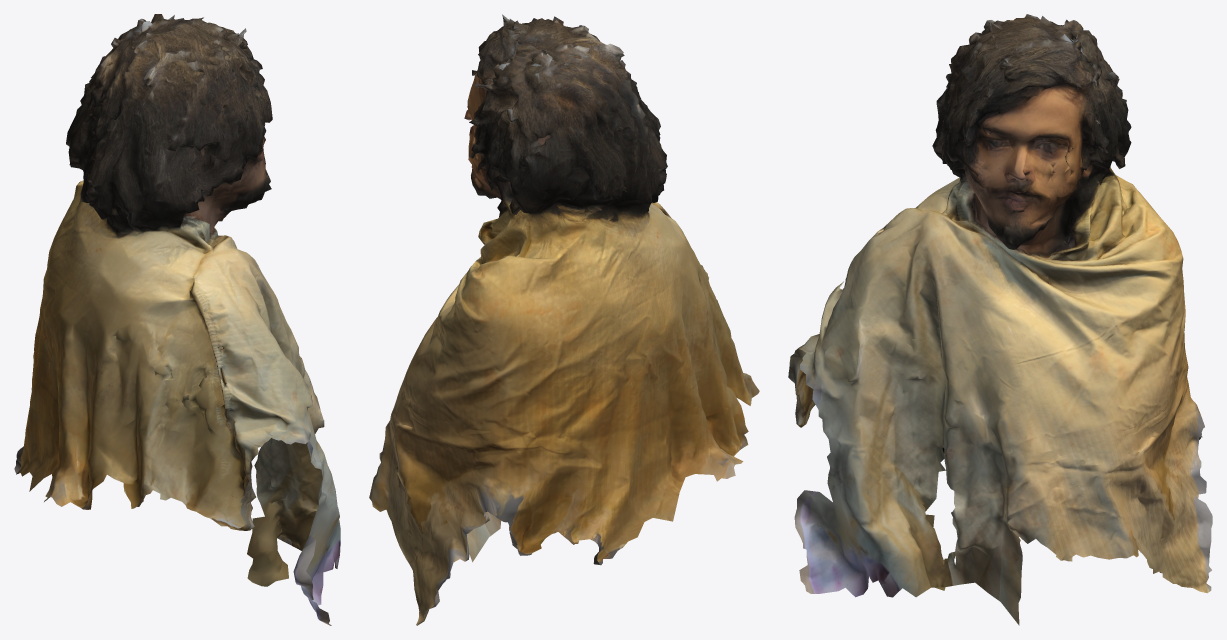
3 views of the same model, side by side, from view 1: azimuth 30°, elevation 25°; view 2: azimuth 150°, elevation 25°; view 3: azimuth 270°, elevation 25° (orthographic). The views are drawn at different scales.
Parts seen in each view (by area): view 1: 3D Scan; view 2: 3D Scan; view 3: 3D Scan.
Part boxes in pixels (left/top/right/bottom): 3D Scan: left=14, top=14, right=340, bottom=625; 3D Scan: left=369, top=14, right=759, bottom=625; 3D Scan: left=788, top=14, right=1212, bottom=625.
Bounding box in the file's own units: 2.17 × 3.71 × 2.54.
Materials: 1 (1 with a texture image).
